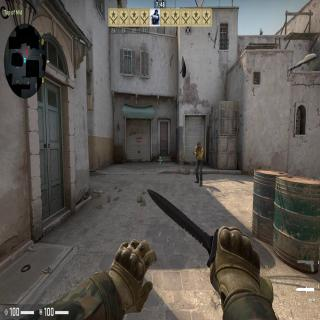T-Body: (194, 140, 204, 187)
T-Head: (197, 141, 201, 148)
